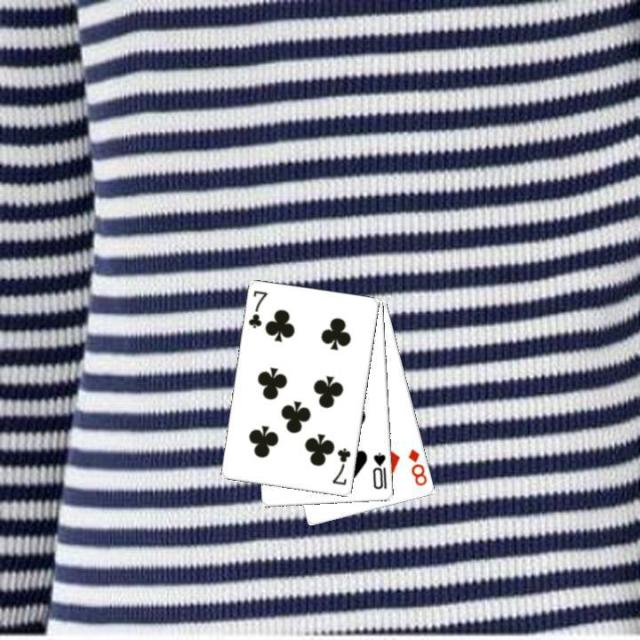10S: (369, 449, 389, 491)
7C: (244, 287, 270, 330), (328, 445, 353, 487)
8D: (404, 445, 430, 488)
